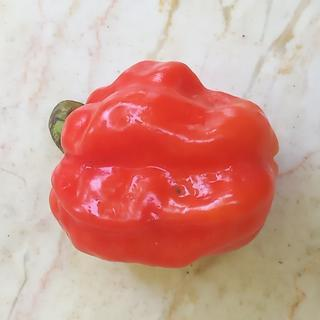Fly-bites: (168, 181, 190, 200)
